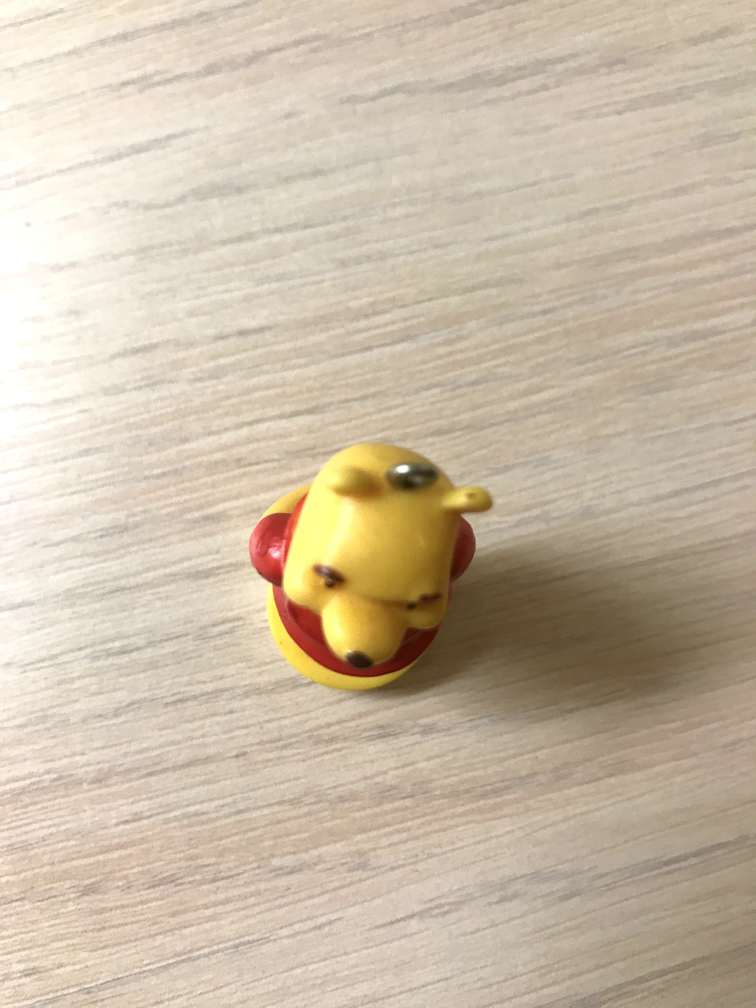Winnie: (277, 428, 490, 663)
